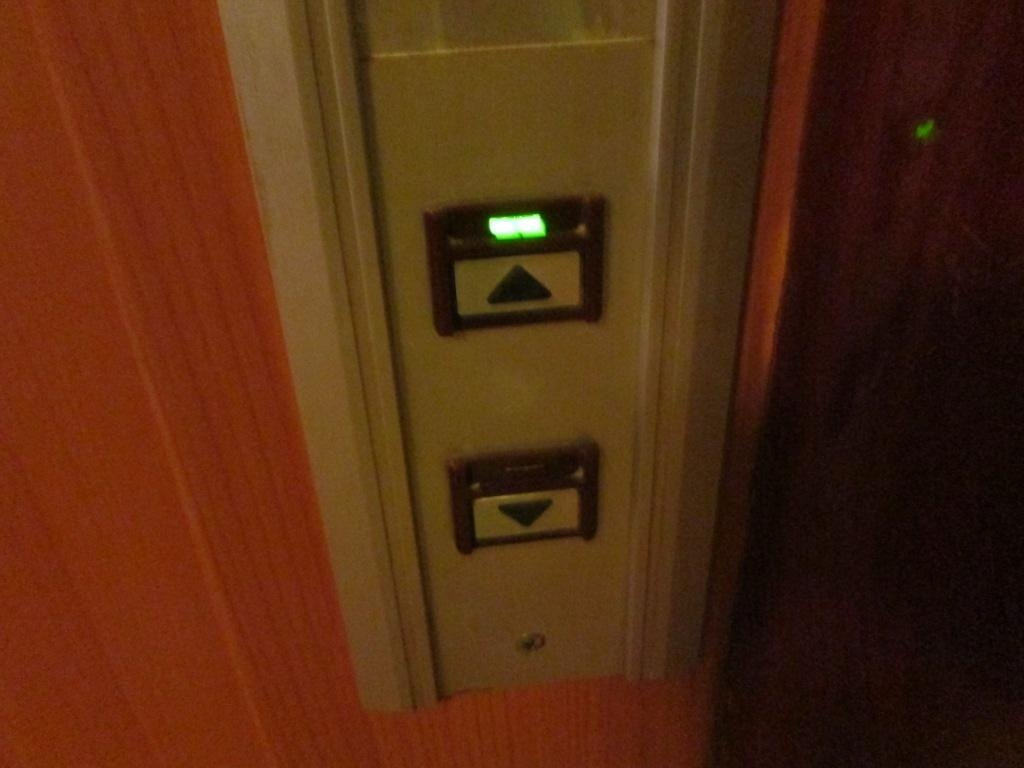down: (446, 445, 600, 555)
up: (423, 194, 606, 337)
